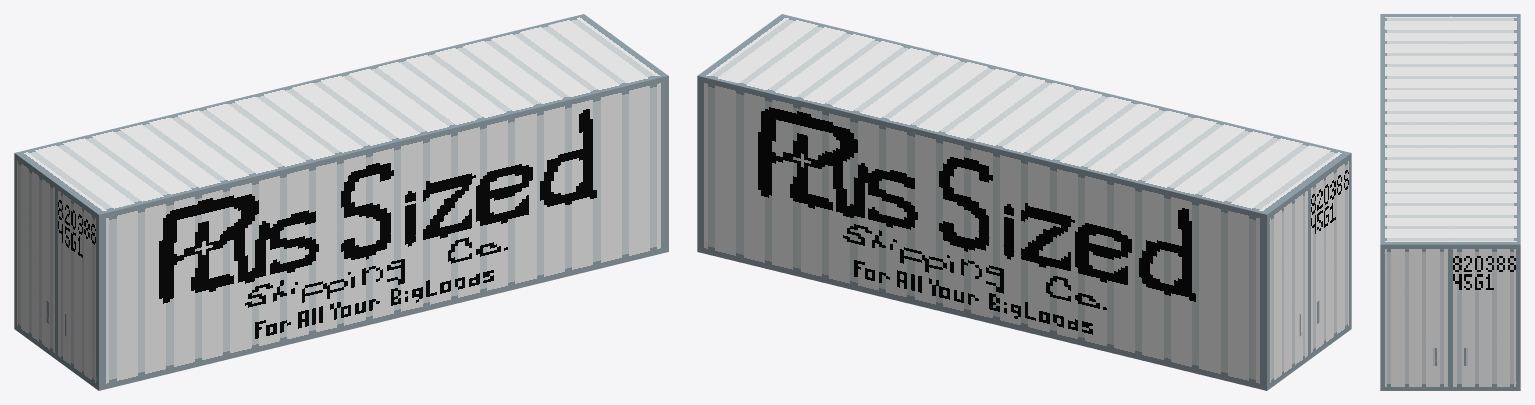
File: ShippingCrate1EndOpen.glb
3 renders of one model, left to right at view 1: azimuth 30°, elevation 25°; view 2: azimuth 150°, elevation 25°; view 3: azimuth 270°, elevation 25°, orthographic. The views are drawn at different scales.
Parts seen in each view (by area): view 1: Crate; view 2: Crate; view 3: Crate, Door1, Door2.
Part boxes in pixels (bbox=[...]): Crate: bbox=[14, 14, 668, 390]; Crate: bbox=[697, 14, 1351, 390]; Crate: bbox=[1380, 14, 1520, 244]; Door1: bbox=[1380, 244, 1450, 390]; Door2: bbox=[1450, 244, 1520, 390].
Bounding box in the file's own units: 44.43 × 13.13 × 11.41.
Materials: 1 (1 with a texture image).
